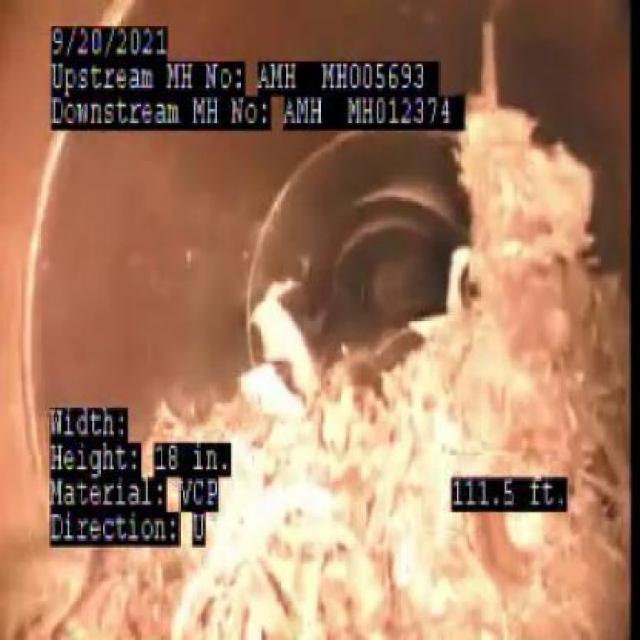Obstacle: (256, 126, 638, 509)
